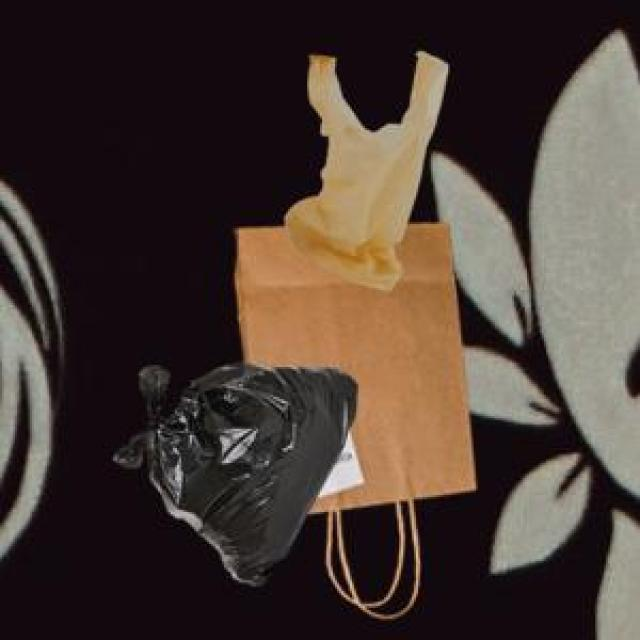miscellaneous trash: (109, 358, 352, 582)
paper: (230, 220, 472, 606)
